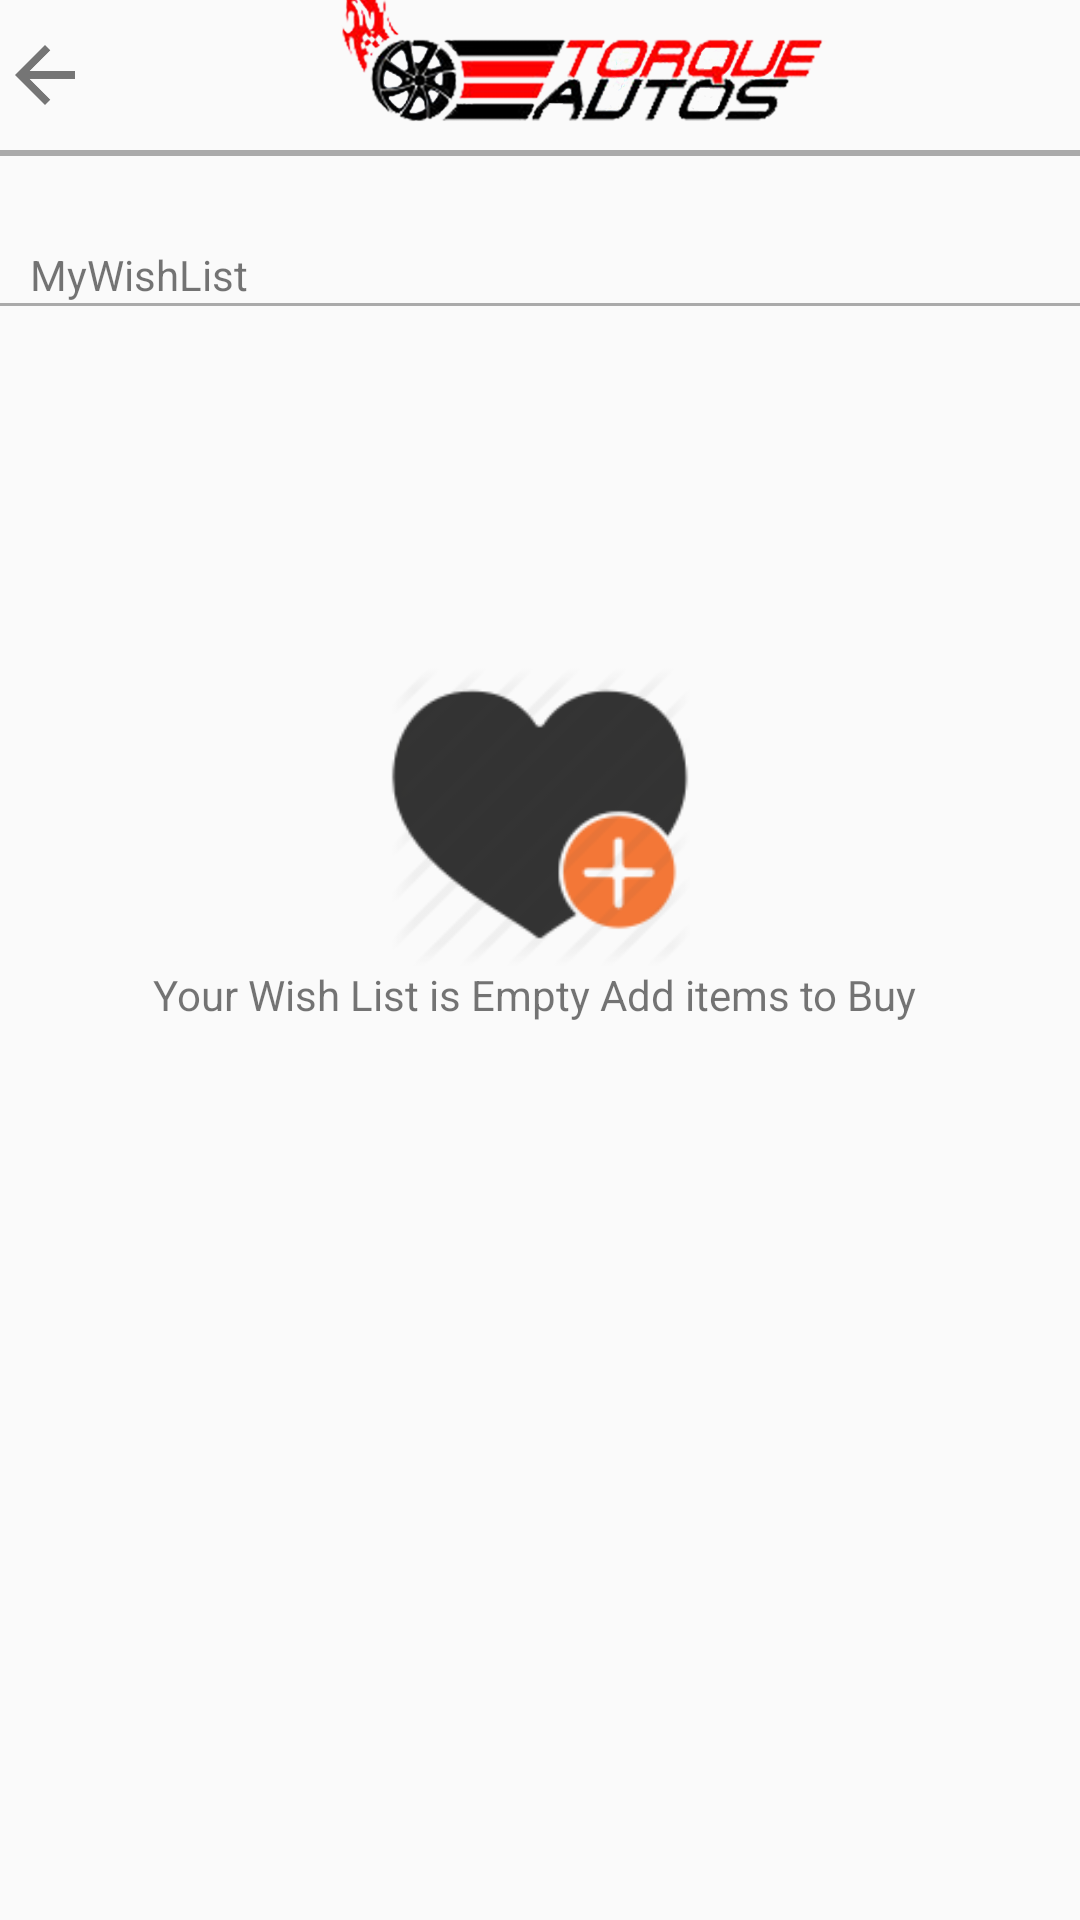

Screen size 1080 × 1920. Icon name, then its center in pixels as (x,y):
arrow: (45,75)
